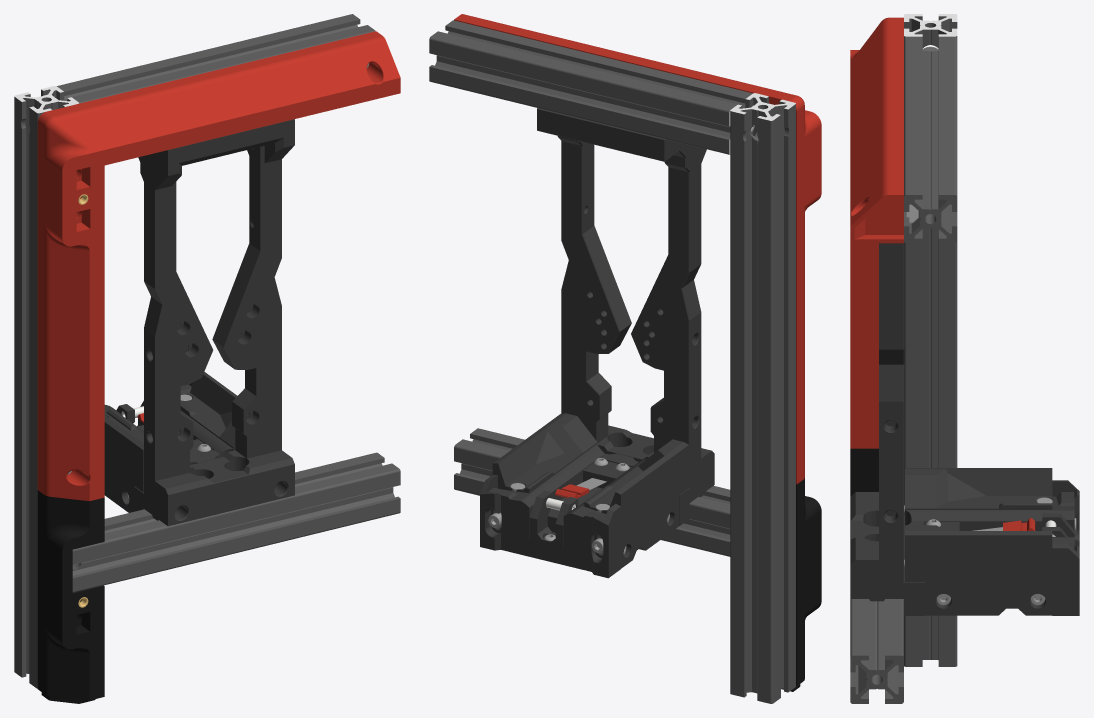
File: Install - Crossbar.gltf
3 views of the same model, side by side, from view 1: azimuth 30°, elevation 25°; view 2: azimuth 150°, elevation 25°; view 3: azimuth 270°, elevation 25° (orthographic). The views are drawn at different scales.
Visible parts, largest first — view 1: DB Accent, Crossbar, HFSB5-2020-430-LCP-RCP (3) (1), Frame Right, Frame Left, DB Primary, Crossbar Bottom, HFSB5-2020-370-TPW (3), Base, Crossbar Top; view 2: HFSB5-2020-430-LCP-RCP (3) (1), HFSB5-2020-370-TPW (3), Frame Right, Frame Left, Base, DB Accent, Back, Crossbar, Crossbar Top, DB Primary, Crossbar Bottom, PTFE Wiper; view 3: Base, DB Accent, HFSB5-2020-430-LCP-RCP (3) (1), HFSB5-2020-370-TPW (3), Frame Right, Crossbar, Crossbar Bottom, Back, DB Primary, PTFE Wiper.
Boxes of the visible parts, x1=… form: DB Accent: x1=37, y1=31, x2=400, y2=501; Crossbar: x1=72, y1=452, x2=400, y2=592; HFSB5-2020-430-LCP-RCP (3) (1): x1=14, y1=86, x2=79, y2=688; Frame Right: x1=212, y1=146, x2=281, y2=458; Frame Left: x1=144, y1=182, x2=213, y2=480; DB Primary: x1=37, y1=490, x2=104, y2=703; Crossbar Bottom: x1=134, y1=450, x2=294, y2=526; HFSB5-2020-370-TPW (3): x1=57, y1=14, x2=375, y2=103; Base: x1=104, y1=372, x2=237, y2=512; Crossbar Top: x1=138, y1=119, x2=294, y2=189; HFSB5-2020-430-LCP-RCP (3) (1): x1=730, y1=93, x2=795, y2=703; HFSB5-2020-370-TPW (3): x1=429, y1=20, x2=752, y2=154; Frame Right: x1=561, y1=140, x2=631, y2=442; Frame Left: x1=631, y1=159, x2=701, y2=466; Base: x1=492, y1=413, x2=688, y2=568; DB Accent: x1=454, y1=14, x2=821, y2=484; Back: x1=480, y1=475, x2=620, y2=578; Crossbar: x1=454, y1=428, x2=730, y2=556; Crossbar Top: x1=537, y1=108, x2=706, y2=171; DB Primary: x1=781, y1=477, x2=821, y2=691; Crossbar Bottom: x1=597, y1=425, x2=714, y2=525; PTFE Wiper: x1=529, y1=490, x2=578, y2=549; Base: x1=905, y1=468, x2=1052, y2=615; DB Accent: x1=850, y1=17, x2=903, y2=448; HFSB5-2020-430-LCP-RCP (3) (1): x1=904, y1=14, x2=957, y2=666; HFSB5-2020-370-TPW (3): x1=904, y1=36, x2=957, y2=243; Frame Right: x1=879, y1=242, x2=904, y2=559; Crossbar: x1=850, y1=599, x2=903, y2=703; Crossbar Bottom: x1=850, y1=492, x2=924, y2=615; Back: x1=1052, y1=480, x2=1079, y2=615; DB Primary: x1=850, y1=448, x2=878, y2=496; PTFE Wiper: x1=1042, y1=513, x2=1074, y2=536.
Size of the model in its own units: 0.16 by 0.263 by 0.0857.
